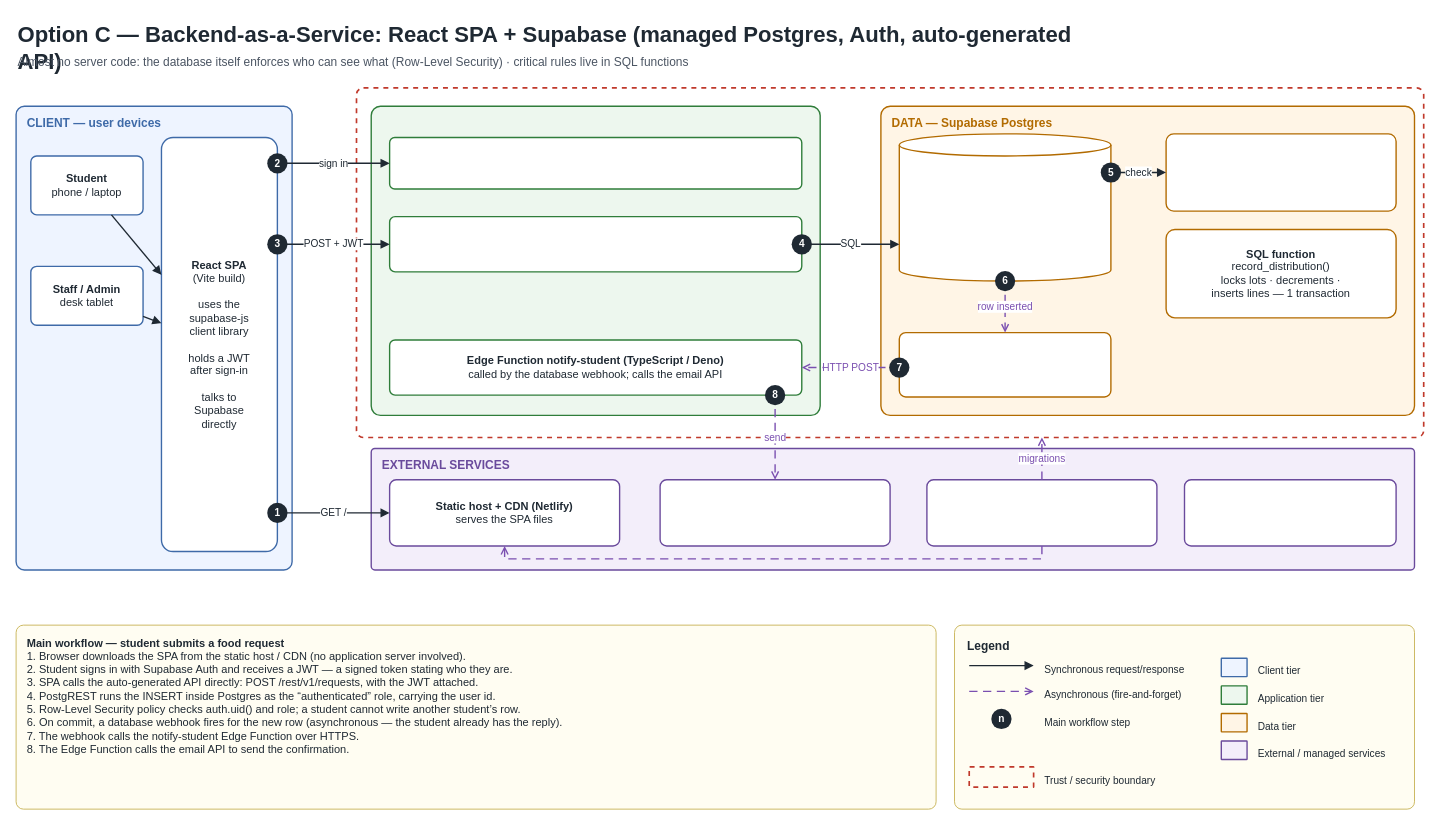
The diagram is 1441 pixels wide and 825 high, and some of its shapes have lost their labels. The shapes that lost their labels are listed below. From the top down, each one's box as (x1, y1, x2, y2) in pixels, then its label:
(389, 136, 802, 189): Supabase Auth email + password → signed JWT with user id + role claim
(1165, 133, 1396, 211): Row-Level Security policies student: only own rows staff: all operational rows
(898, 133, 1111, 281): PostgreSQL same tables as Options A and B
(370, 105, 820, 416): APPLICATION — Supabase services (no custom server)
(389, 216, 802, 272): PostgREST — auto-generated REST API /rest/v1/<table> · /rest/v1/rpc/<function>
(355, 87, 1424, 438): Supabase project — vendor-managed; RLS policies are the security boundary
(898, 331, 1111, 397): Database webhook fires on INSERT / UPDATE of requests
(659, 479, 890, 546): Transactional email API confirmations · reminders
(926, 479, 1157, 546): GitHub + GitHub Actions CI: tests · supabase db push CD: deploy SPA to Netlify
(1183, 479, 1396, 546): Supabase dashboard API + DB logs · usage
